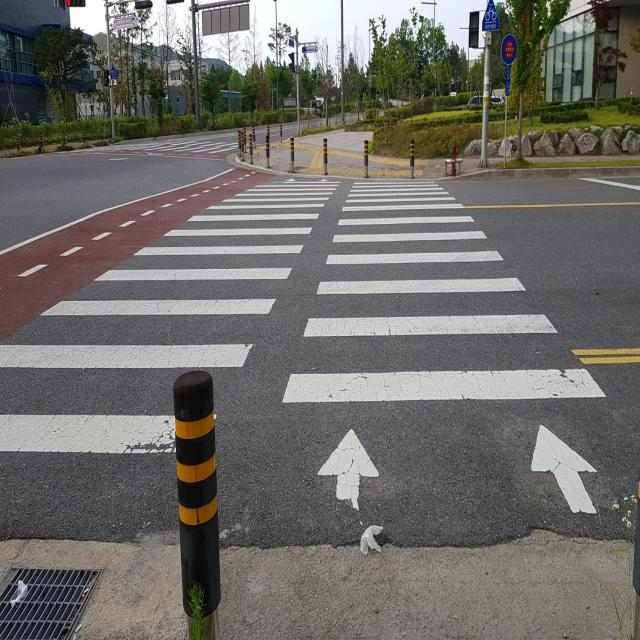횡단보도: (0, 180, 607, 515), (112, 134, 250, 156)
